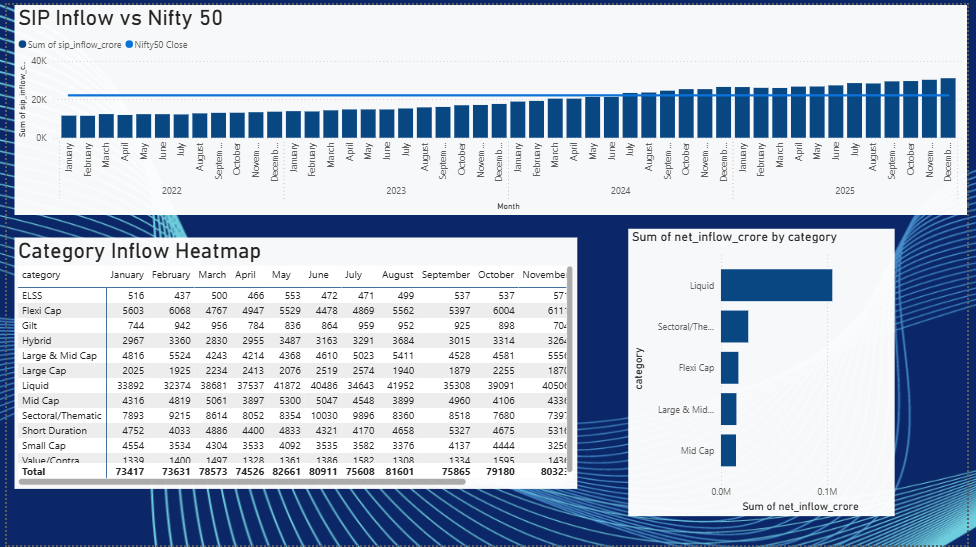

The page's visual inventory and layout, read from the dashboard file:
{"tool":"powerbi","page":{"name":" SIP & Market Trends","canvas":[1280,720],"ordinal":3},"visuals":[{"type":"lineClusteredColumnComboChart","title":"SIP Inflow vs Nifty 50","fields":{"Y":["Sum(04_monthly_sip_inflows_cleaned.sip_inflow_crore)"],"Y2":["04_monthly_sip_inflows_cleaned.Nifty50 Close"],"Category":["04_monthly_sip_inflows_cleaned.month.Variation.Date Hierarchy.Year","04_monthly_sip_inflows_cleaned.month.Variation.Date Hierarchy.Month"]},"box":[10,0,1270,280],"z":0},{"type":"pivotTable","title":"Category Inflow Heatmap","fields":{"Rows":["05_category_inflows_cleaned.category"],"Columns":["05_category_inflows_cleaned.month.Variation.Date Hierarchy.Month"],"Values":["Sum(05_category_inflows_cleaned.net_inflow_crore)"]},"box":[0,280,892.5,440],"z":1},{"type":"clusteredBarChart","fields":{"Category":["05_category_inflows_cleaned.category"],"Y":["Sum(05_category_inflows_cleaned.net_inflow_crore)"]},"box":[892.5,310,355,382.5],"z":2}]}

Visuals, with their boxes in screenshot pixels (x1, y1, x2, y2), scaled from the page's 1280x720 canvas onto the 976x547 screenshot:
"SIP Inflow vs Nifty 50" lineClusteredColumnComboChart: box=[8, 0, 975, 213]
"Category Inflow Heatmap" pivotTable: box=[0, 213, 681, 546]
clusteredBarChart - 05_category_inflows_cleaned.category x Sum(05_category_inflows_cleaned.net_inflow_crore): box=[681, 236, 951, 526]
